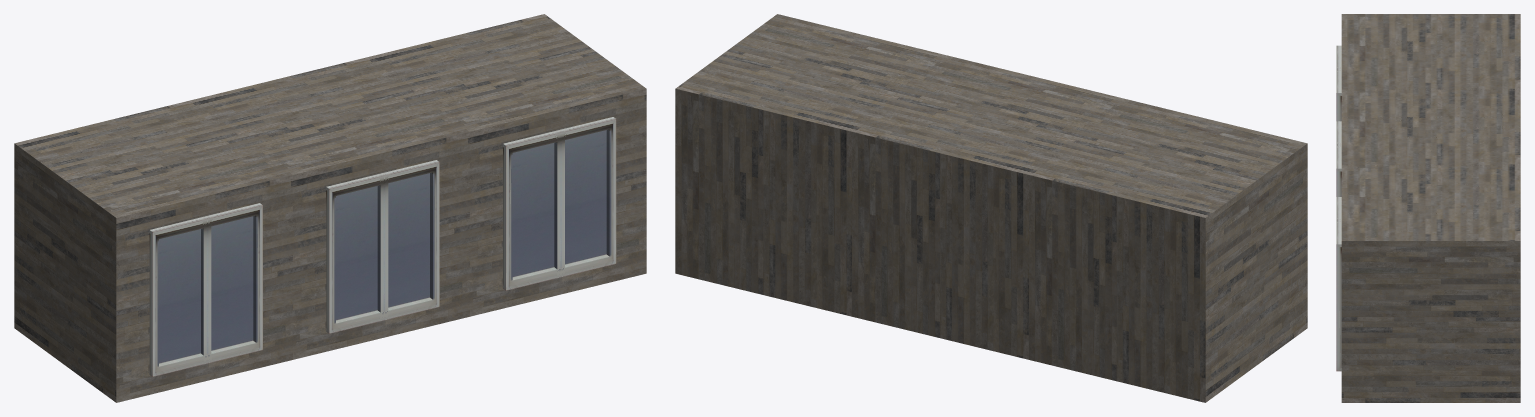
The model's file is 3x1_window.fbx.
3 renders of one model, left to right at view 1: azimuth 30°, elevation 25°; view 2: azimuth 150°, elevation 25°; view 3: azimuth 270°, elevation 25°, orthographic. The views are drawn at different scales.
Visible parts, largest first — view 1: Cube.016; view 2: Cube.016; view 3: Cube.016.
Boxes of the visible parts, left/top/right/bottom form: Cube.016: left=14, top=14, right=646, bottom=402; Cube.016: left=675, top=14, right=1307, bottom=402; Cube.016: left=1336, top=14, right=1520, bottom=402.
Size of the model in its own units: 206 by 200 by 600.
